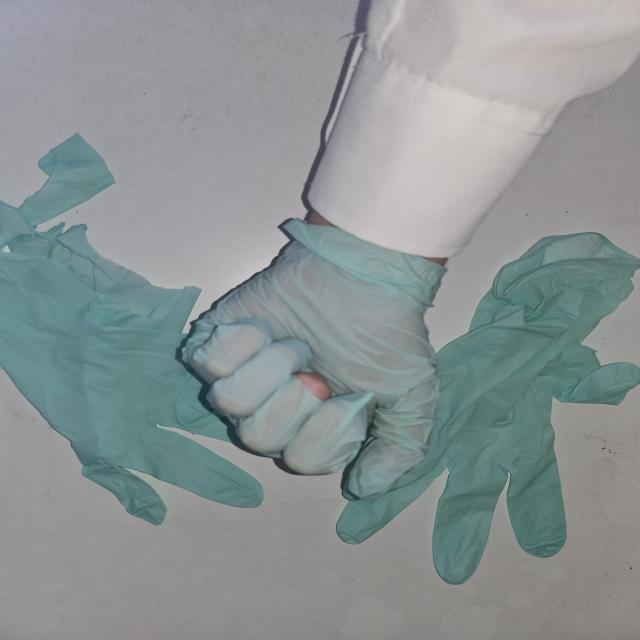gloves_damaged: (177, 211, 446, 496)
